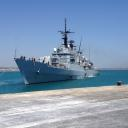Fragata: (14, 18, 101, 88)
